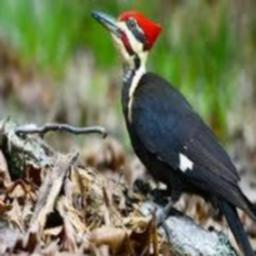Woodpecker: (91, 10, 256, 256)
